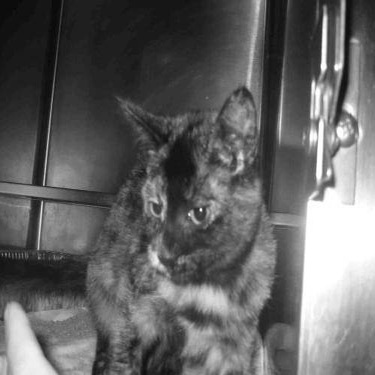cat: (84, 81, 278, 367)
